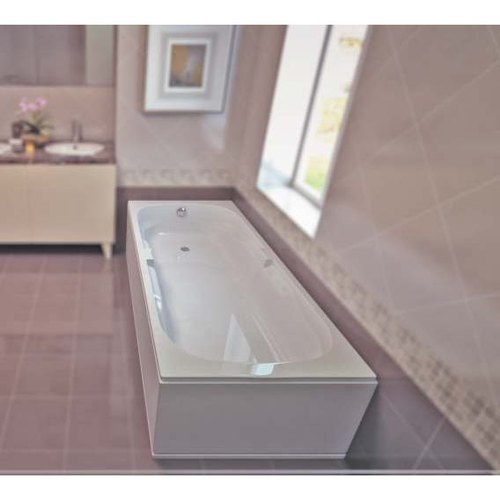bathub: (117, 185, 388, 465)
